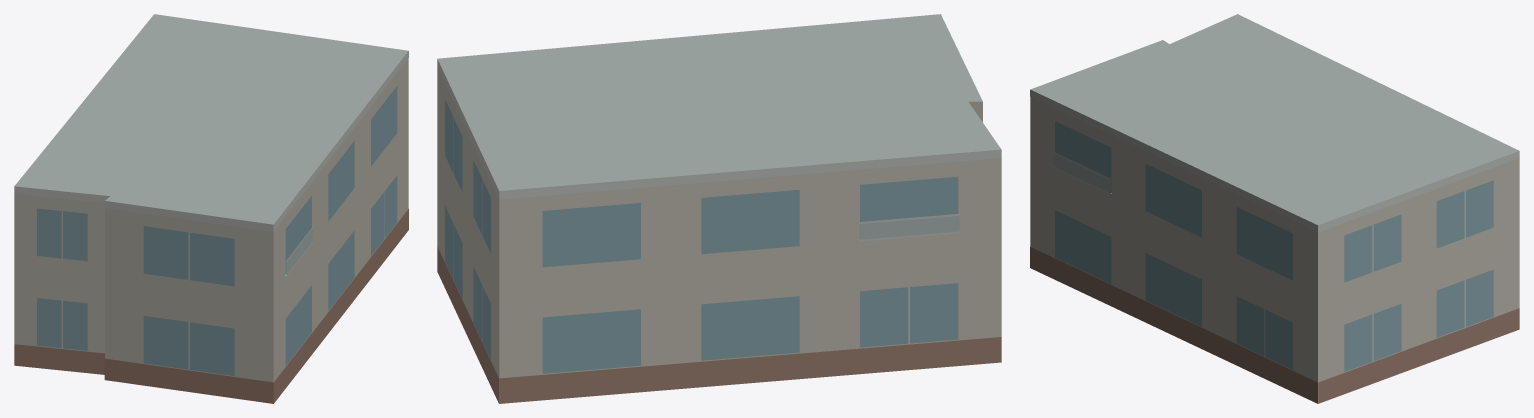
The model's file is survey-upis-32780873.glb.
The picture shows the model from 3 angles, left to right: view 1: azimuth 30°, elevation 25°; view 2: azimuth 150°, elevation 25°; view 3: azimuth 270°, elevation 25°; orthographic projection. The views are drawn at different scales.
Visible parts, largest first — view 1: survey-upis-32780873.tmp; view 2: survey-upis-32780873.tmp; view 3: survey-upis-32780873.tmp.
Part boxes in pixels (x1,y1,x2,y2): survey-upis-32780873.tmp: [14, 14, 408, 403]; survey-upis-32780873.tmp: [437, 14, 1001, 403]; survey-upis-32780873.tmp: [1030, 14, 1519, 403].
Bounding box in the file's own units: 15.49 × 6.1 × 15.16.
